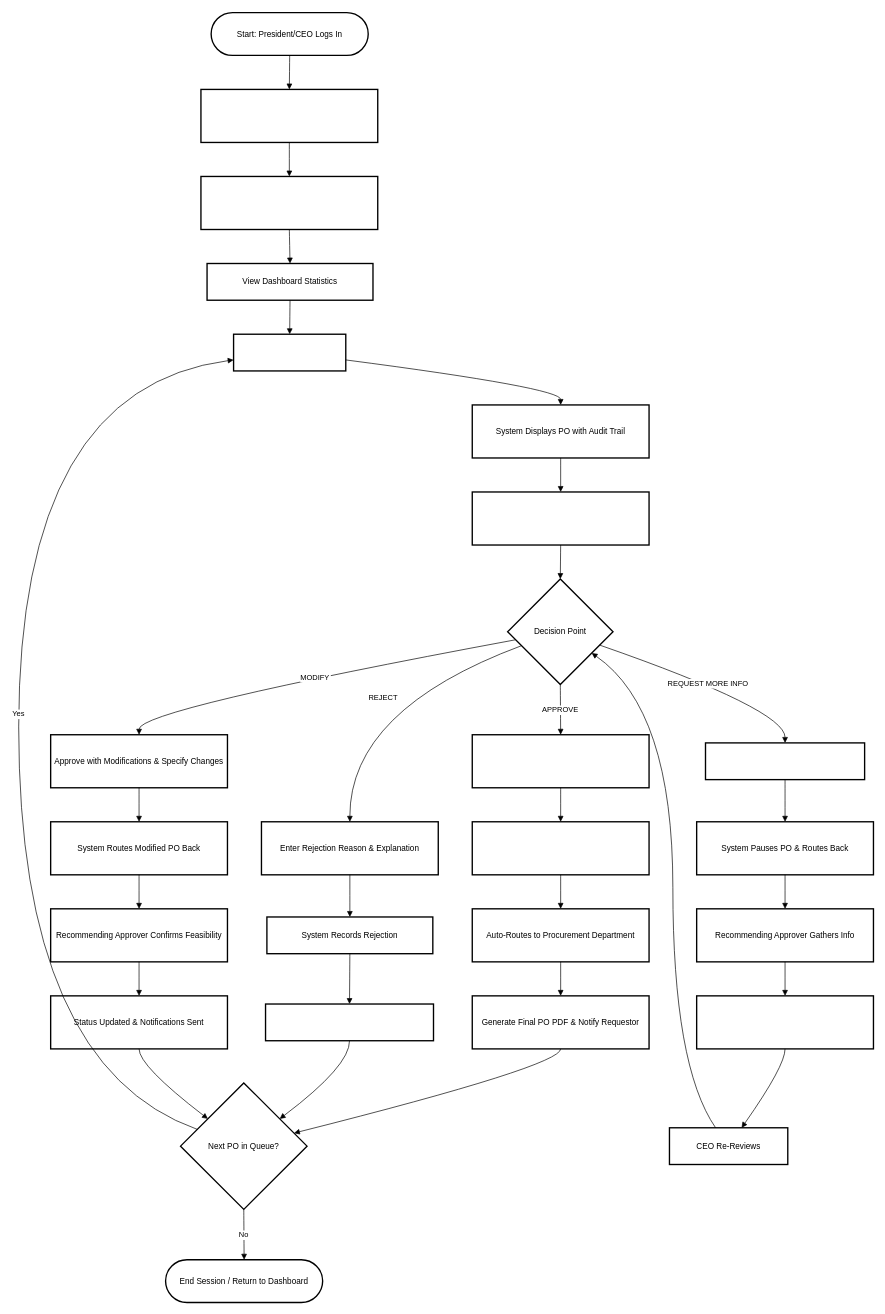
This 885x1314 diagram has some shape labels left out. Here are the shapes that lost their labels. From the top down, the centre of each, then its label:
At [289,115]: "Access President/CEO Dashboard".
At [289,202]: "System Auto-Loads PO Approval Queue".
At [289,352]: "Select First PO".
At [560,518]: "Institutional Decision Review".
At [560,761]: "Approve Purchase Order & Add Comments".
At [784,761]: "Enter Specific Questions".
At [560,848]: "System Records Approval Timestamp & Signature".
At [349,1022]: "Notify Full Approval Chain".
At [785,1022]: "System Notifies CEO of Response".
